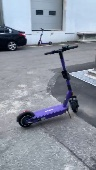beam: (15, 45, 82, 130), (37, 26, 53, 46)
